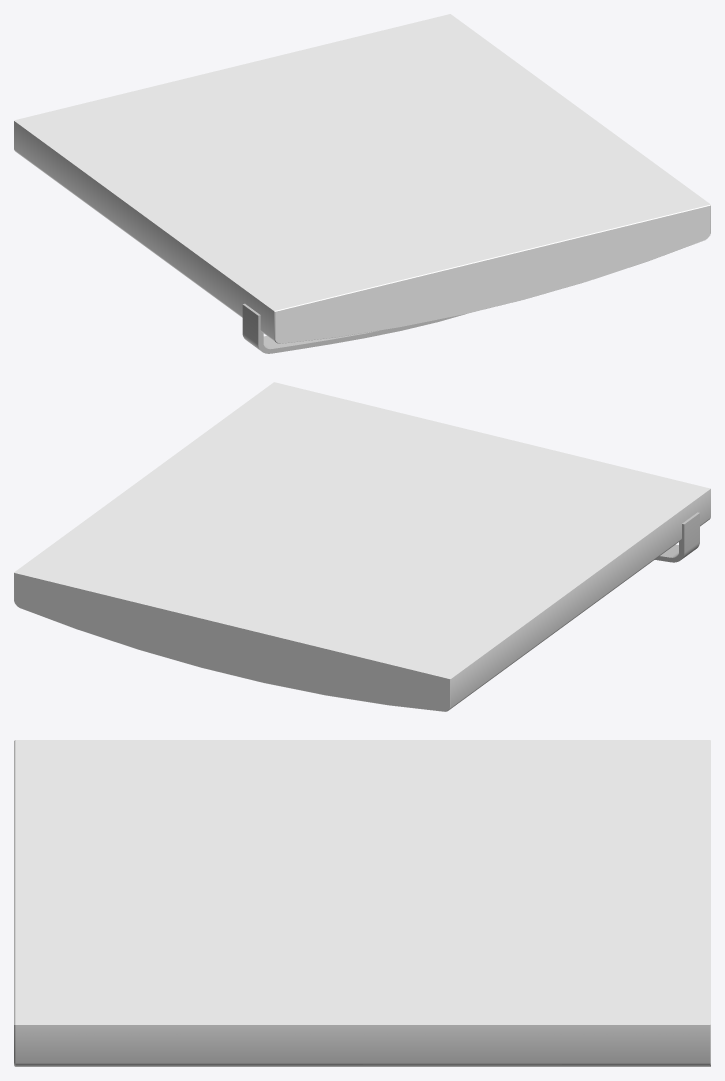
File: fridge0015_door02.glb
The picture shows the model from 3 angles, top to bottom: view 1: azimuth 30°, elevation 25°; view 2: azimuth 150°, elevation 25°; view 3: azimuth 270°, elevation 25°; orthographic projection. The views are drawn at different scales.
Parts seen in each view (by area): view 1: fridge0015_door02; view 2: fridge0015_door02; view 3: fridge0015_door02.
Part boxes in pixels (x1,y1,x2,y2): fridge0015_door02: (14,14,710,353); fridge0015_door02: (14,382,710,711); fridge0015_door02: (14,740,710,1066).
Bounding box in the file's own units: 0.6773 × 0.0944 × 0.6967.
2 materials, 2 textured.
